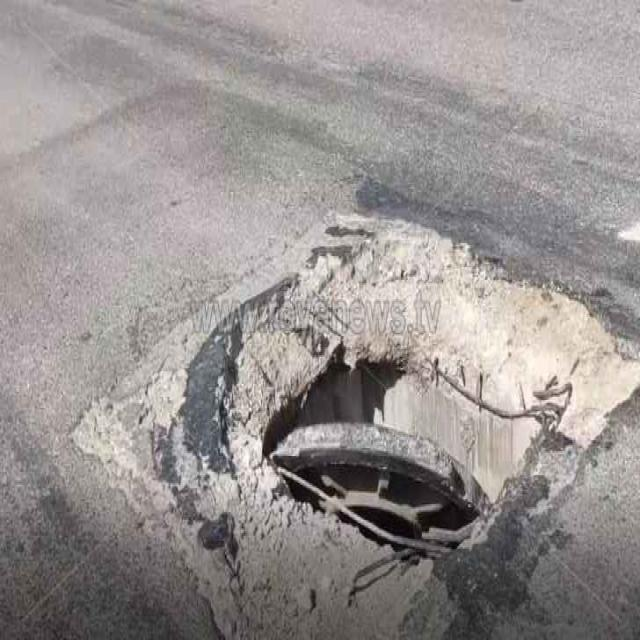Motorcycle: (240, 278, 596, 558)
